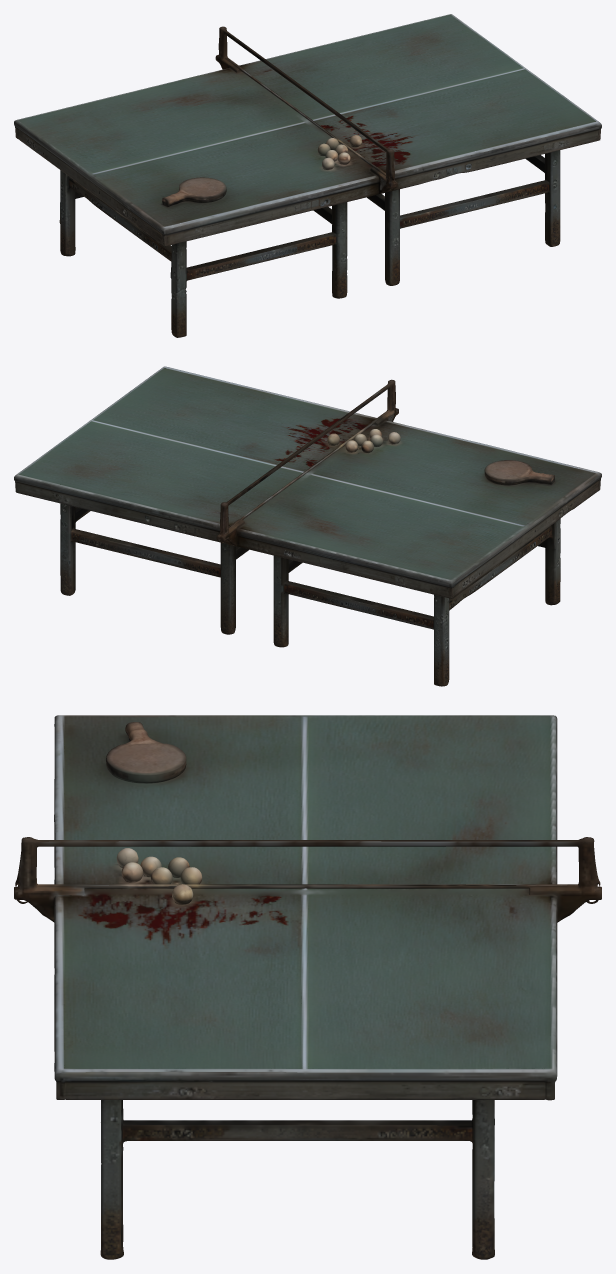
File: BanDanhBongBan.fbx
The picture shows the model from 3 angles, top to bottom: view 1: azimuth 30°, elevation 25°; view 2: azimuth 150°, elevation 25°; view 3: azimuth 270°, elevation 25°; orthographic projection. The views are drawn at different scales.
Visible parts, largest first — view 1: node_0; view 2: node_0; view 3: node_0.
Part boxes in pixels (x1,y1,x2,y2): node_0: (14,14,601,337); node_0: (14,366,601,686); node_0: (14,715,601,1259).
Size of the model in its own units: 101 by 34.96 by 70.51.
Materials: 1 (1 with a texture image).
